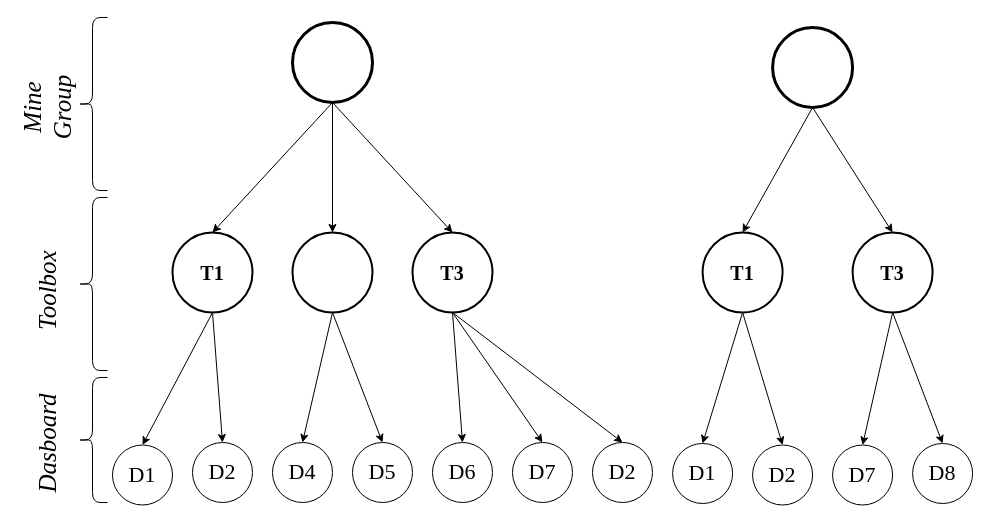
This 990x523 diagram has some shape labels left out. The shapes that lost their labels are listed below. From the top down, each one's centre as x and y in pixels, then its label:
At (x=332, y=62): "Mine 1".
At (x=812, y=67): "Mine 2".
At (x=332, y=272): "T2".
